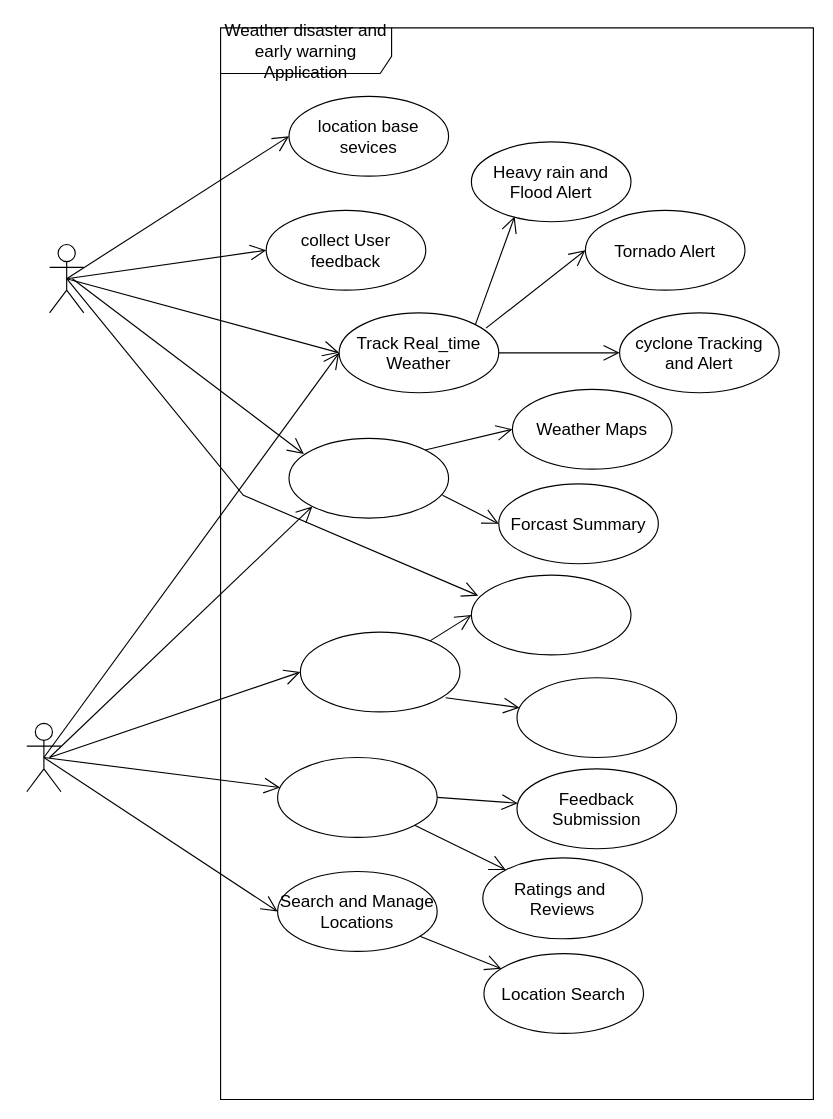
Some shapes in this 833 by 1119 pixel diagram are drawn without their labels. Each missing label, with the centre of its shape:
"Alert Customization" goes at point (596, 717).
"Customize Notifications" goes at point (379, 671).
"Display Weather Data" goes at point (368, 477).
"Push Notifications" goes at point (550, 614).
"System" goes at point (66, 278).
"USER" goes at point (43, 757).
"User Feedback" goes at point (356, 796).
